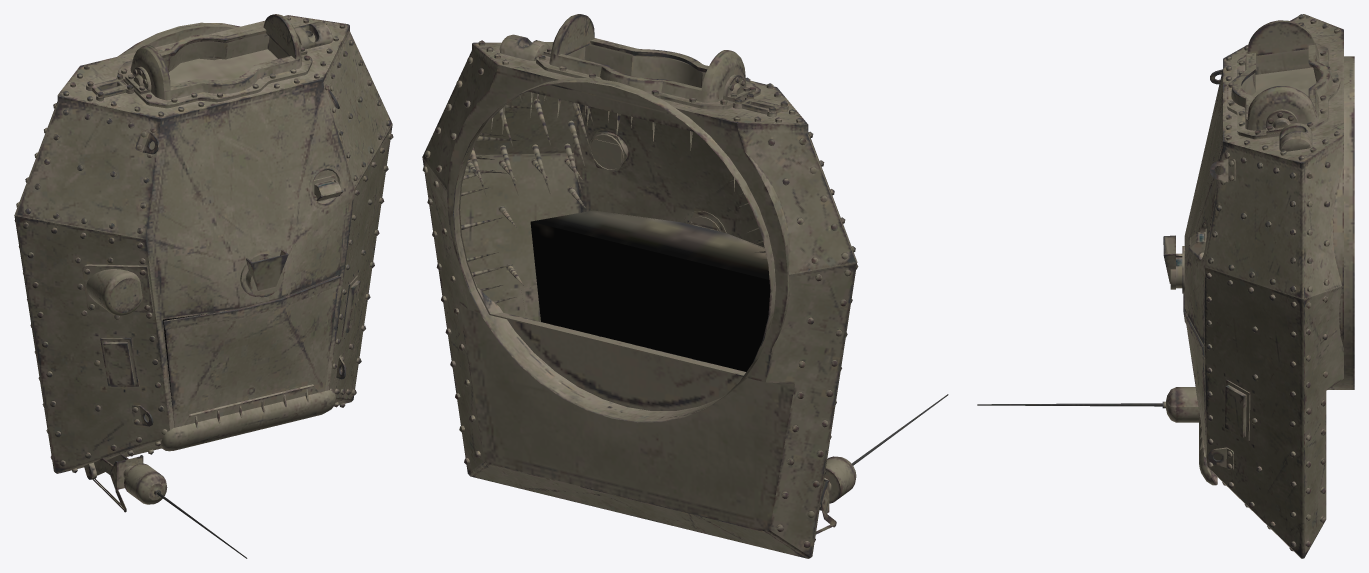
File: Turret_01.glb
3 views of the same model, side by side, from view 1: azimuth 30°, elevation 25°; view 2: azimuth 150°, elevation 25°; view 3: azimuth 270°, elevation 25° (orthographic). The views are drawn at different scales.
Visible parts, largest first — view 1: set_0_group_0; view 2: set_0_group_0; view 3: set_0_group_0.
Part boxes in pixels (box(x1,y1,x2,y2)): set_0_group_0: box(14, 14, 393, 558); set_0_group_0: box(422, 14, 948, 558); set_0_group_0: box(977, 14, 1354, 558).
Size of the model in its own units: 2.08 by 2.23 by 1.72.
1 material, 1 textured.
